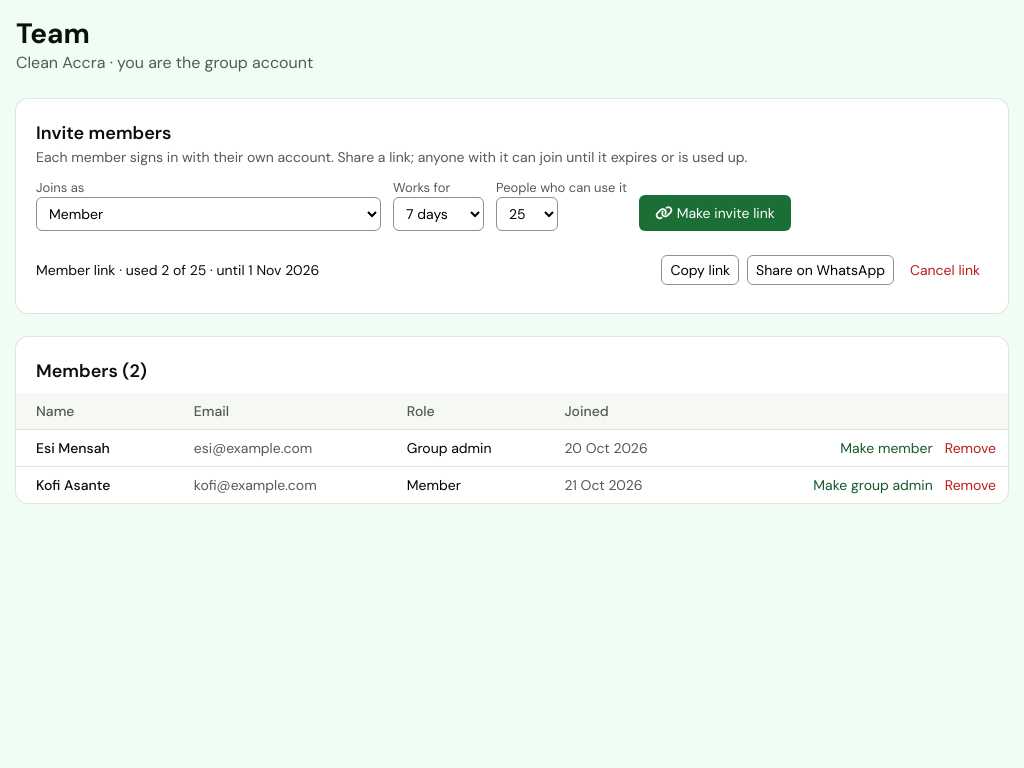
the group account invites (members or group admins), copies the link and shares on WhatsApp
Check: the number of list items with test id "invite-link" is 1, box [36,247,988,293]
Check: the list item with test id "invite-link" shows "Member link · used 2 of 25", box [36,247,988,293]
Select "Group admin (can invite and remove members)" in the dropdown labelled "Joins as" at (208, 214), box [36,197,381,231]
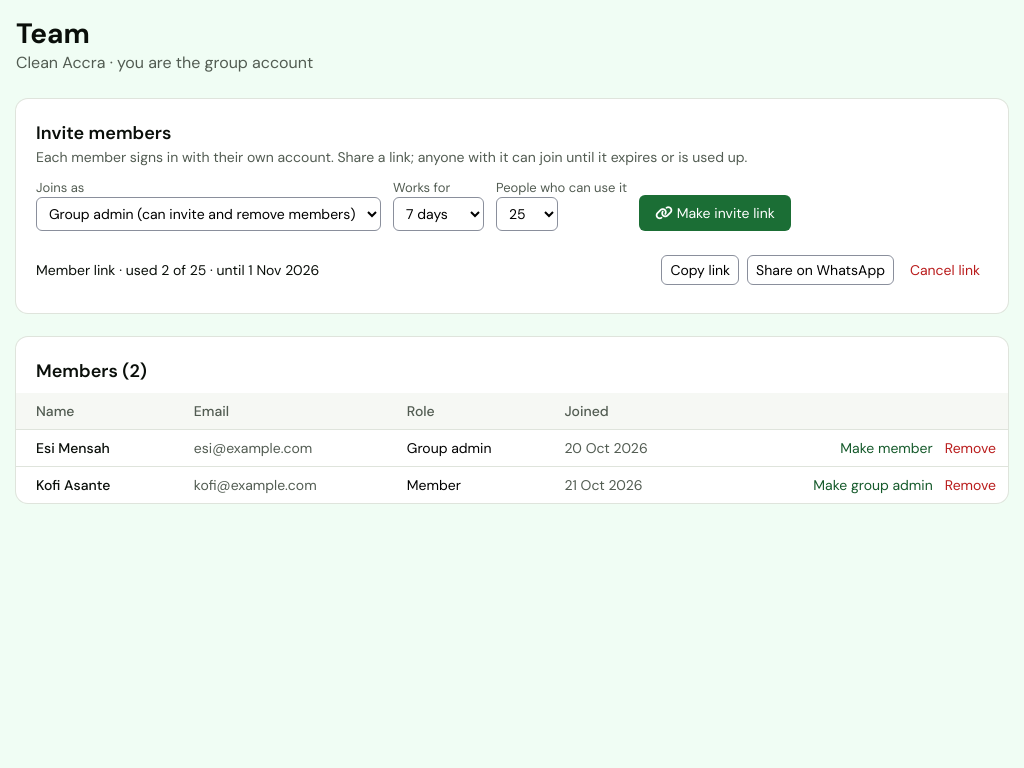
Select "14 days" in the dropdown labelled "Works for" at (438, 214), box [393,197,484,231]
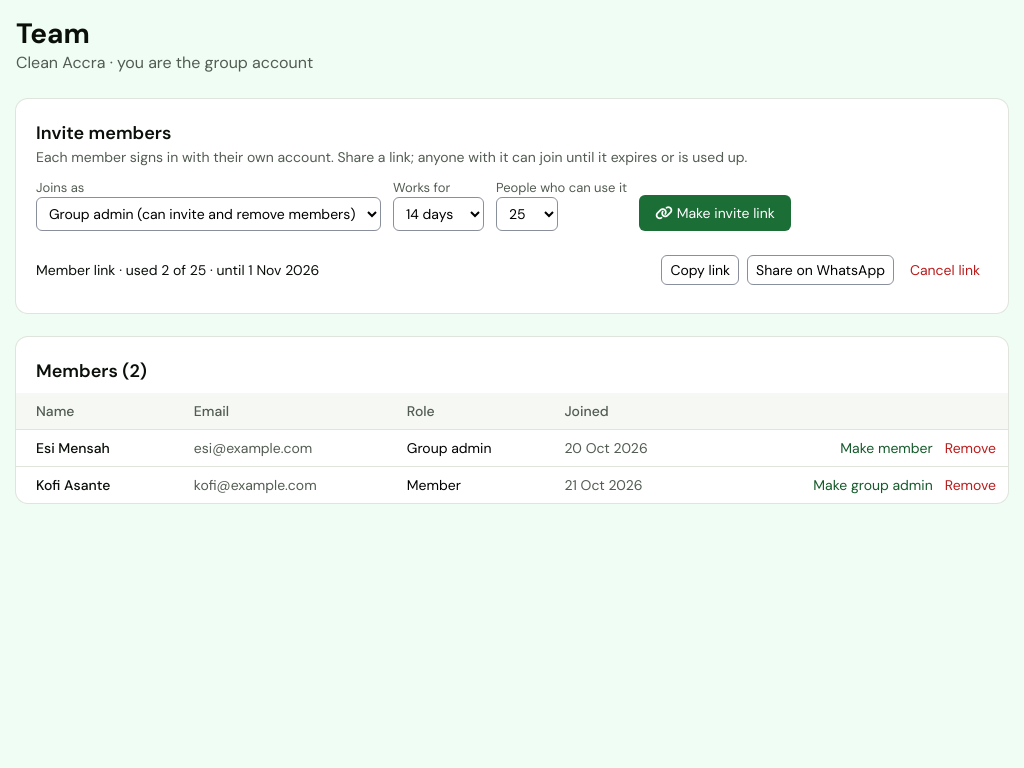
Click the button "Make invite link" at (715, 213), box [639,195,791,231]
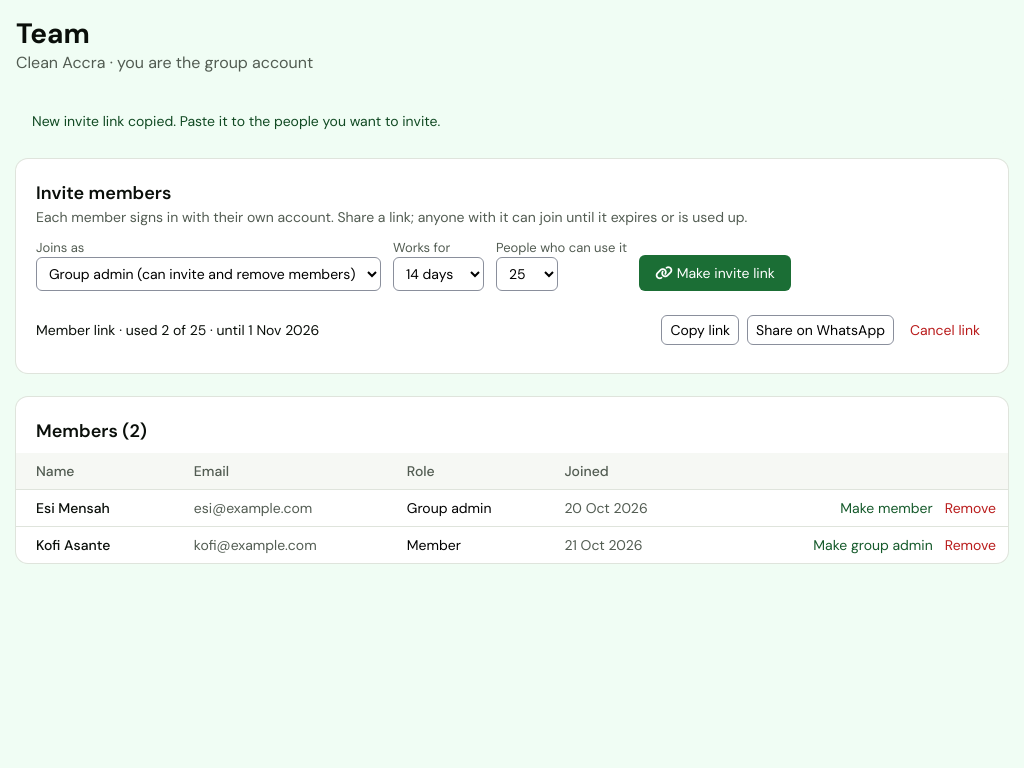
Check: the message shows "New invite link copied", box [32,112,440,130]
